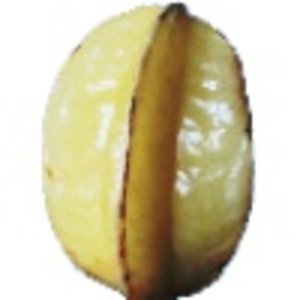carambola: (39, 4, 256, 300)
